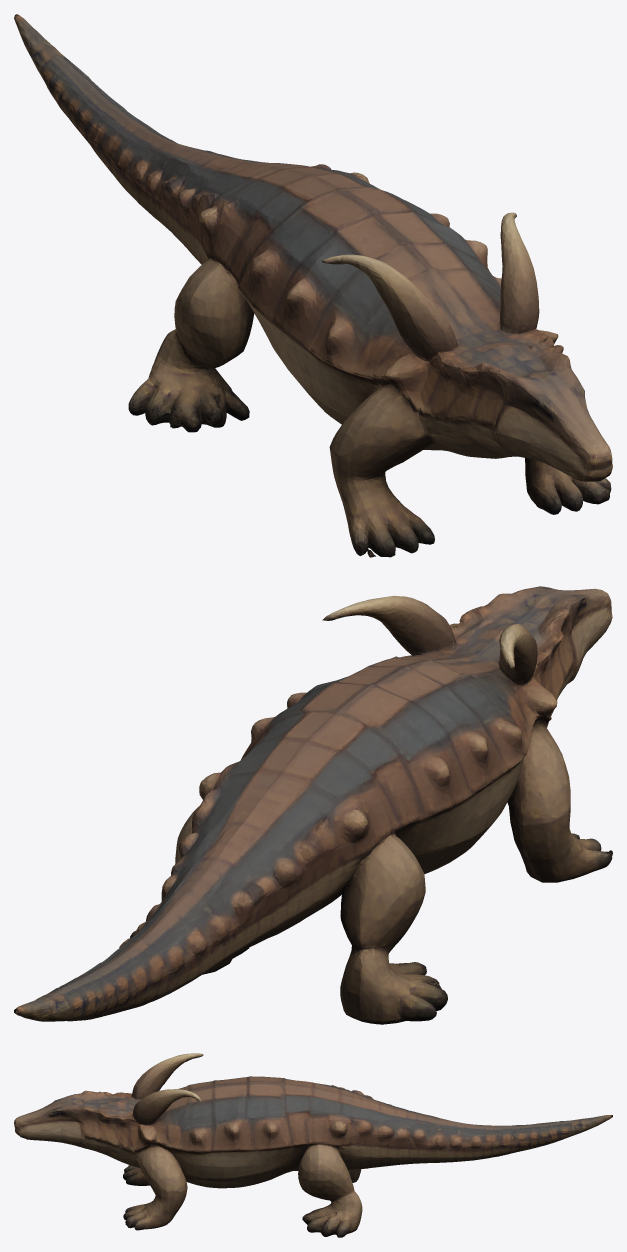
3 renders of one model, top to bottom at view 1: azimuth 30°, elevation 25°; view 2: azimuth 150°, elevation 25°; view 3: azimuth 270°, elevation 25°, orthographic. The views are drawn at different scales.
Parts seen in each view (by area): view 1: world; view 2: world; view 3: world.
Part boxes in pixels (<box>): world: <box>14,14,612,557</box>; world: <box>14,586,612,1024</box>; world: <box>14,1053,612,1237</box>.
Size of the model in its own units: 1.36 by 1.08 by 4.5.
1 material, 1 textured.
